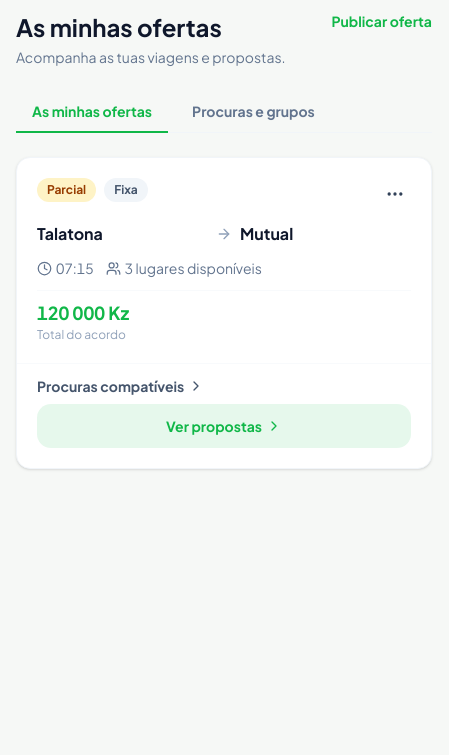
Test case: PACOTE ENG #27 — hub motorista todas procuras + toggle › ENG27-1: tab lista todas as procuras por defeito (toggle OFF)
This screenshot has width=449, height=755.
Check: the text "Talatona" is shown, box [37,223,103,244]
Click the tab "Procuras e grupos": (254, 112) [176,91,331,133]
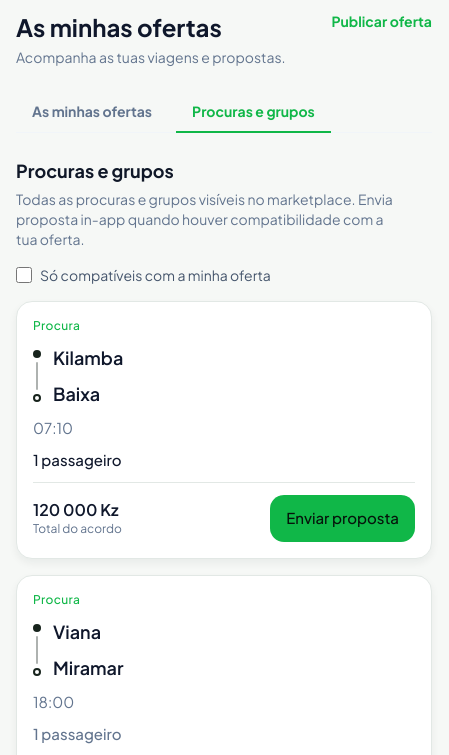
Check: the text "Kilamba" is shown, box [53,346,123,370]
Check: the text "Viana" is shown, box [53,620,101,642]
Check: the checkbox with test id "driver-procuras-só-compatíveis" is not checked, box [16,267,32,283]
